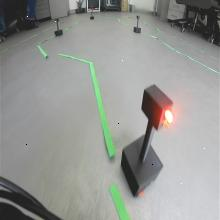red: (140, 84, 175, 130)
